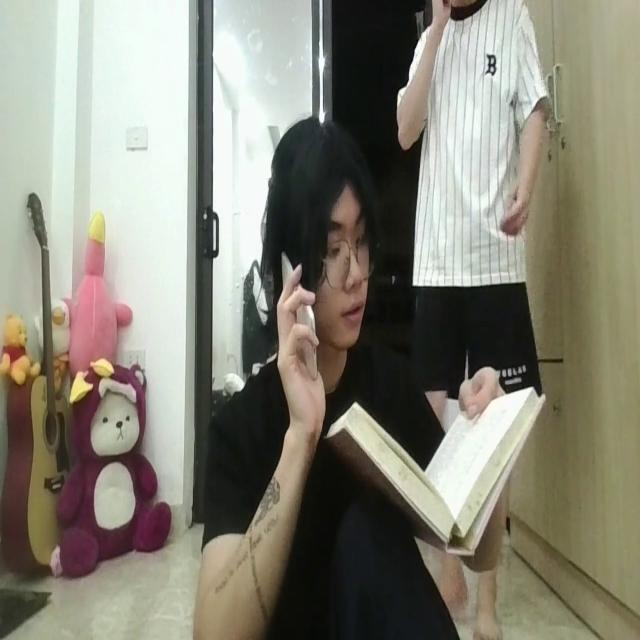book: (328, 378, 548, 555)
extra_person: (398, 2, 540, 396)
phone: (279, 241, 320, 378)
student: (214, 117, 431, 640)
